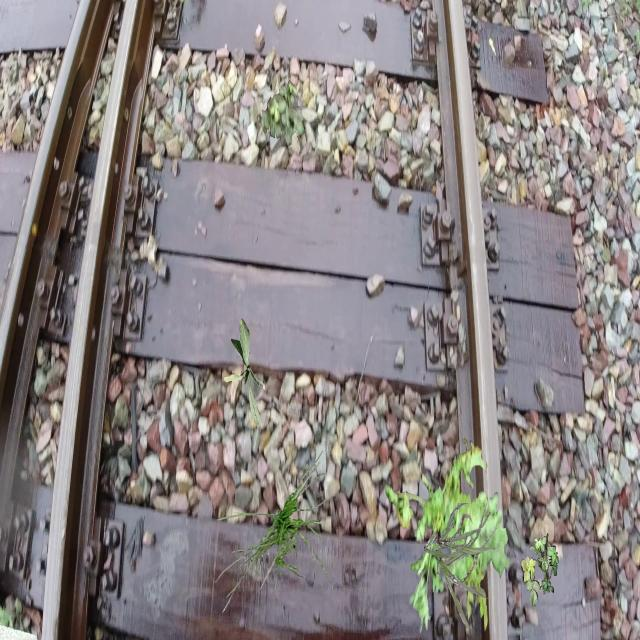Plant: (386, 438, 511, 634), (215, 450, 334, 614), (424, 503, 497, 628), (224, 319, 264, 429), (261, 80, 304, 146), (521, 533, 558, 606)
